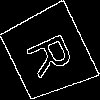R: (24, 27, 84, 80)
